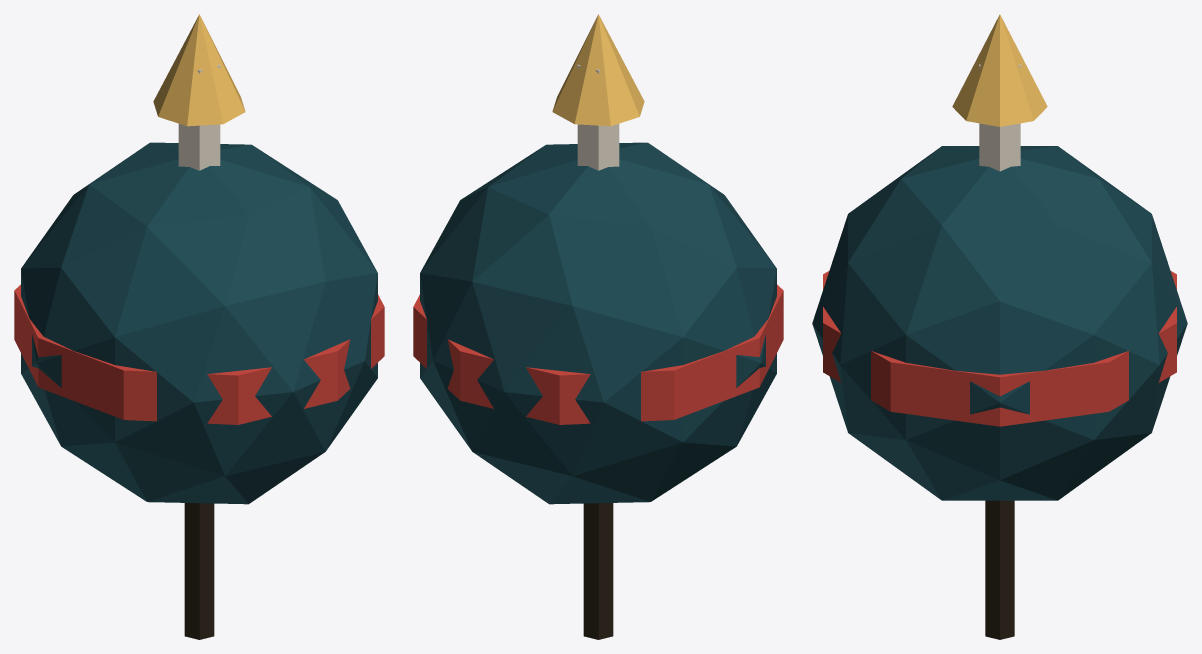
The model's file is bobber.glb.
The picture shows the model from 3 angles, left to right: view 1: azimuth 30°, elevation 25°; view 2: azimuth 150°, elevation 25°; view 3: azimuth 270°, elevation 25°; orthographic projection.
Visible parts, largest first — view 1: bobber_body, bobber_stripe, bobber_tip, bobber_stem_bottom, bobber_stem_top; view 2: bobber_body, bobber_stripe, bobber_tip, bobber_stem_bottom, bobber_stem_top; view 3: bobber_body, bobber_stripe, bobber_tip, bobber_stem_bottom, bobber_stem_top.
Part boxes in pixels (x1,y1,x2,y2): bobber_body: (21, 142, 377, 504); bobber_stripe: (14, 284, 384, 424); bobber_tip: (153, 14, 245, 126); bobber_stem_bottom: (184, 503, 214, 639); bobber_stem_top: (178, 64, 220, 170); bobber_body: (420, 142, 776, 504); bobber_stripe: (413, 284, 783, 424); bobber_tip: (552, 14, 644, 126); bobber_stem_bottom: (583, 503, 613, 639); bobber_stem_top: (577, 64, 619, 170); bobber_body: (812, 146, 1187, 500); bobber_stripe: (823, 271, 1176, 426); bobber_tip: (952, 14, 1047, 126); bobber_stem_bottom: (985, 500, 1014, 639); bobber_stem_top: (979, 64, 1020, 171).
Bounding box in the file's own units: 0.11 × 0.2 × 0.11.
